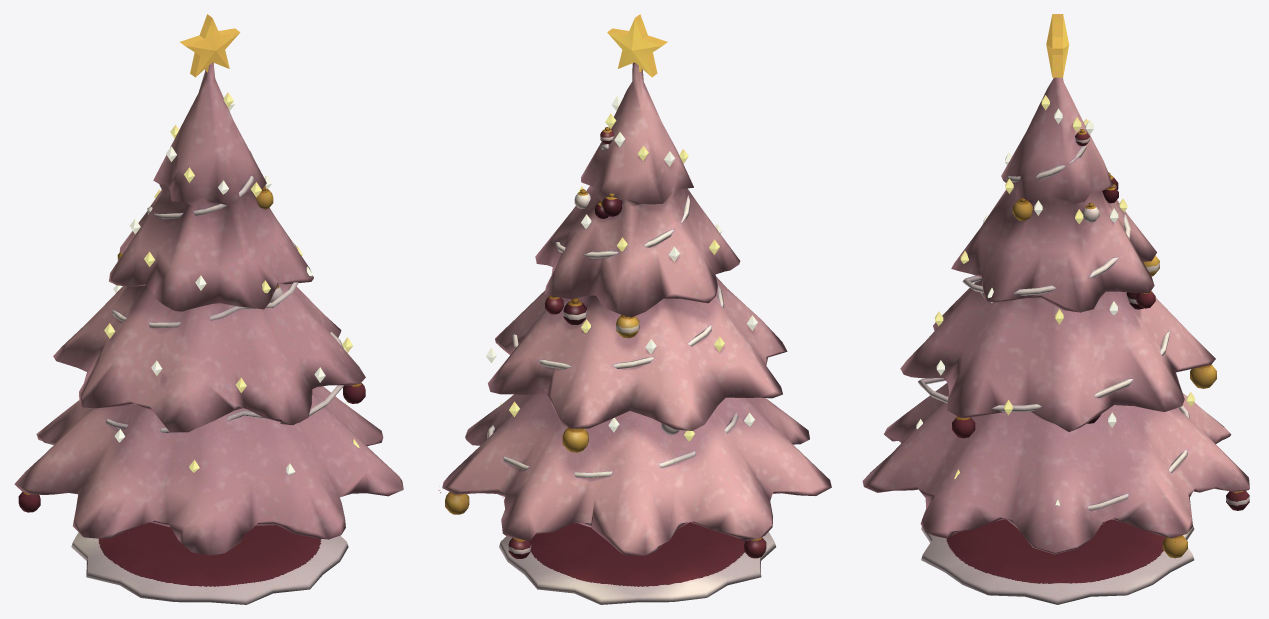
Rendered from tree_blush.glb.
3 renders of one model, left to right at view 1: azimuth 30°, elevation 25°; view 2: azimuth 150°, elevation 25°; view 3: azimuth 270°, elevation 25°, orthographic.
Parts seen in each view (by area): view 1: Foliage, Skirt, Lights, Garland, Star, Ornaments; view 2: Foliage, Skirt, Ornaments, Garland, Lights, Star; view 3: Foliage, Skirt, Ornaments, Garland, Lights, Star.
Part boxes in pixels (left/top/right/bottom): Foliage: left=14, top=62, right=403, bottom=555; Skirt: left=71, top=522, right=348, bottom=604; Lights: left=104, top=92, right=359, bottom=474; Garland: left=90, top=151, right=344, bottom=432; Star: left=180, top=14, right=240, bottom=77; Ornaments: left=18, top=186, right=365, bottom=512; Foliage: left=438, top=62, right=831, bottom=555; Skirt: left=499, top=522, right=775, bottom=604; Ornaments: left=445, top=127, right=766, bottom=558; Garland: left=487, top=144, right=738, bottom=477; Lights: left=486, top=96, right=757, bottom=441; Star: left=607, top=14, right=667, bottom=77; Foliage: left=862, top=77, right=1249, bottom=554; Skirt: left=921, top=519, right=1194, bottom=604; Ornaments: left=952, top=129, right=1249, bottom=558; Garland: left=918, top=145, right=1189, bottom=510; Lights: left=916, top=95, right=1194, bottom=505; Star: left=1046, top=14, right=1069, bottom=77.
Size of the model in its own units: 1.81 by 2.78 by 1.87.
2 materials, 2 textured.
